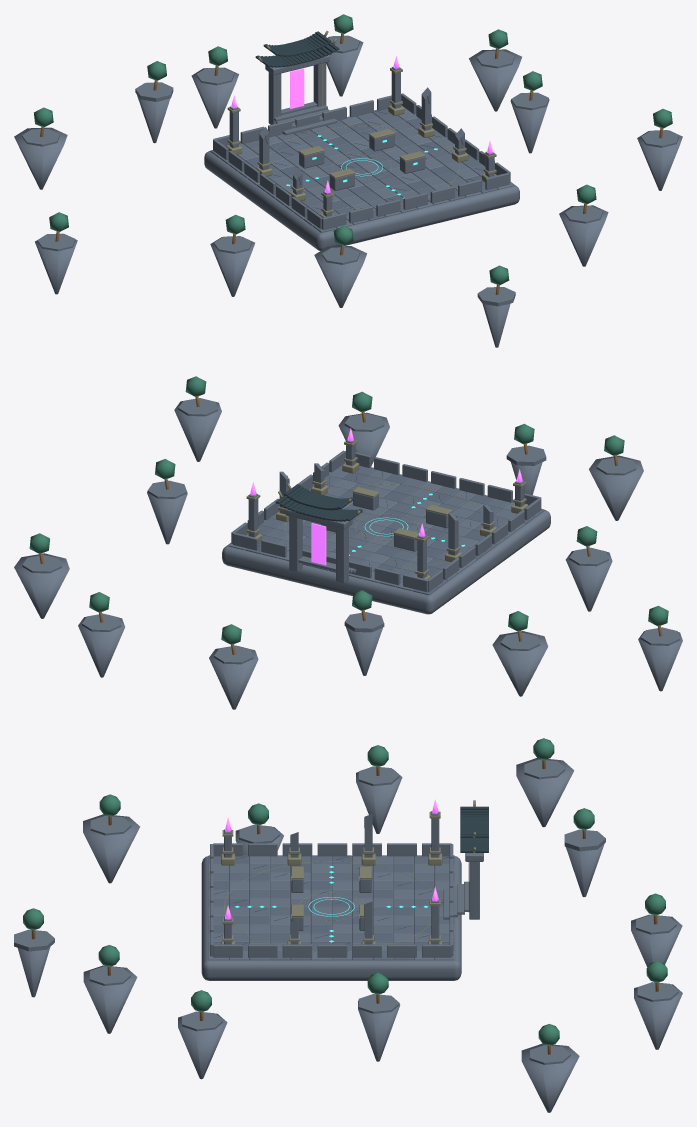
File: floating_ruins.glb
3 renders of one model, top to bottom at view 1: azimuth 30°, elevation 25°; view 2: azimuth 150°, elevation 25°; view 3: azimuth 270°, elevation 25°, orthographic. The views are drawn at different scales.
Visible parts, largest first — view 1: Blue_grey_stone.001, Cutting_mat.002, Slate_4, Slate_1, Slate_2, Slate_0, Slate_3, Ancient_bronze, Graphite.003, Crystal_violet; view 2: Blue_grey_stone.001, Cutting_mat.002, Slate_3, Slate_1, Slate_0, Slate_2, Slate_4, Ancient_bronze, Graphite.003, Crystal_violet; view 3: Blue_grey_stone.001, Cutting_mat.002, Slate_4, Slate_1, Slate_3, Slate_2, Slate_0, Ancient_bronze, Graphite.003.
Part boxes in pixels (x1,y1,x2,y2): Blue_grey_stone.001: (14,35,682,347); Cutting_mat.002: (34,14,672,285); Slate_4: (237,111,513,228); Slate_1: (219,115,497,232); Slate_2: (229,112,485,224); Slate_0: (210,108,484,225); Slate_3: (238,105,496,216); Ancient_bronze: (226,31,496,217); Graphite.003: (255,31,482,209); Crystal_violet: (231,56,492,193); Blue_grey_stone.001: (14,398,682,709); Cutting_mat.002: (29,376,668,644); Slate_3: (228,468,516,590); Slate_1: (258,465,544,587); Slate_0: (245,472,534,595); Slate_2: (262,475,509,580); Slate_4: (246,462,525,582); Ancient_bronze: (246,440,528,579); Graphite.003: (259,467,497,592); Crystal_violet: (250,428,522,565); Blue_grey_stone.001: (14,758,682,1112); Cutting_mat.002: (23,738,667,1045); Slate_4: (208,856,454,960); Slate_1: (208,855,454,960); Slate_3: (208,855,454,960); Slate_2: (208,856,454,960); Slate_0: (208,855,454,960); Ancient_bronze: (221,800,475,951); Graphite.003: (214,806,488,944).
Bounding box in the file's own units: 46.48 × 12.88 × 43.27.
